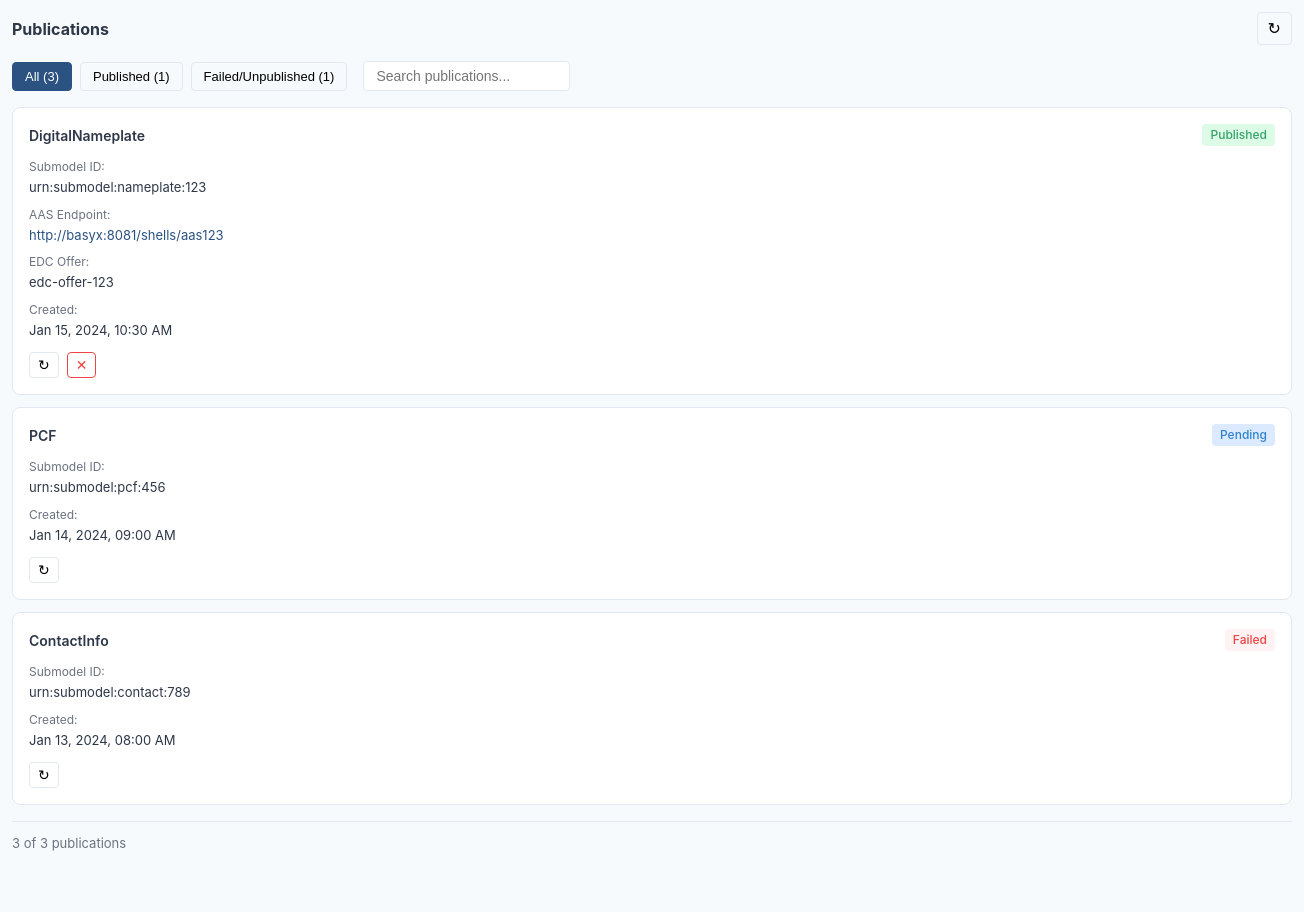
Test: PublicationManager › should show no matches message when search has no results
This screenshot has width=1304, height=912.
expect the text "DigitalNameplate" is shown: met, box [29,124,145,146]
# Search for non-existent term
Type "xyz123" into the field with placeholder "Search publications...". click: coordinates (467, 76)
box: [363,61,570,91]
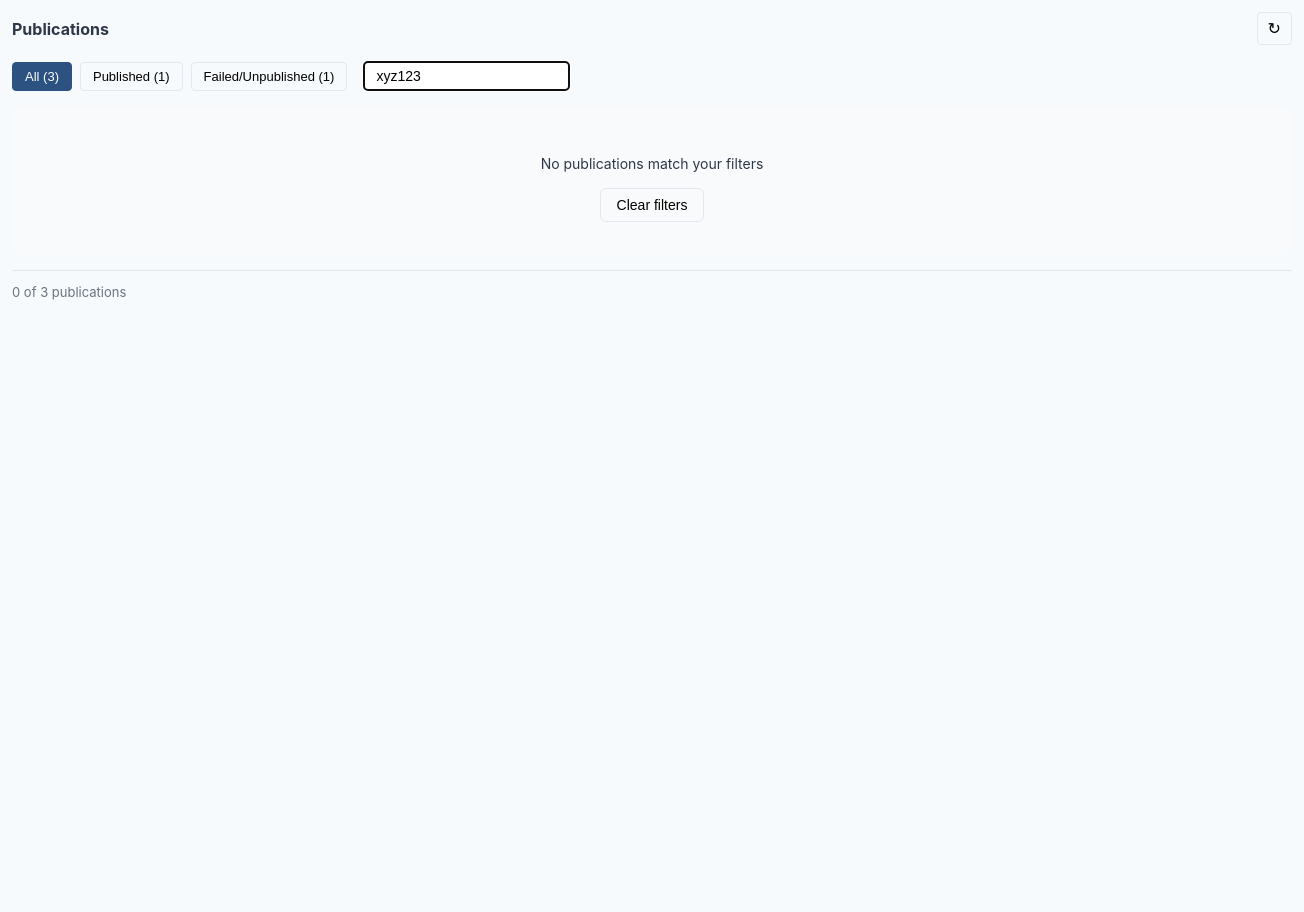
expect the text "No publications match your filters" is shown: met, box [541,153,763,174]
